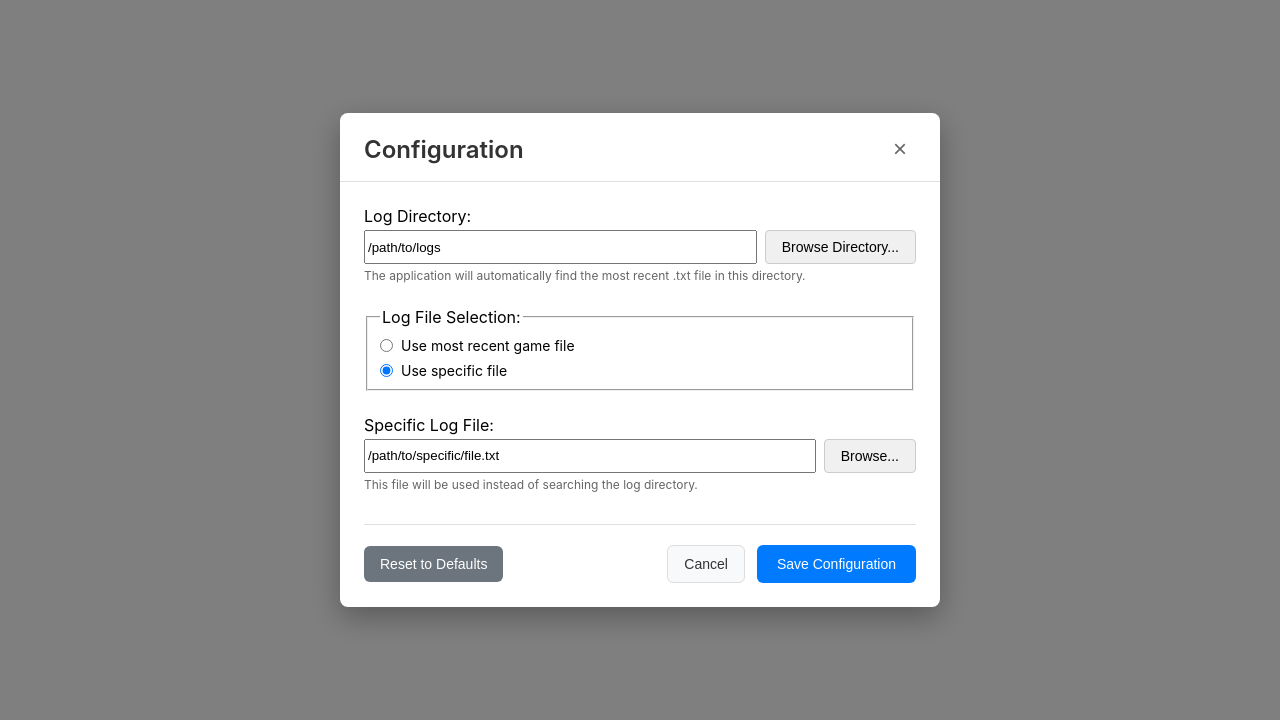
ConfigModal › Rendering › shows success message when success state is set
The width and height of the screenshot is (1280, 720).
Save configuration to trigger success message
What coordinates should you click on to do the following:
click the button "Save Configuration"
I would click on:
 (836, 564)
Its box is [757, 545, 916, 583].
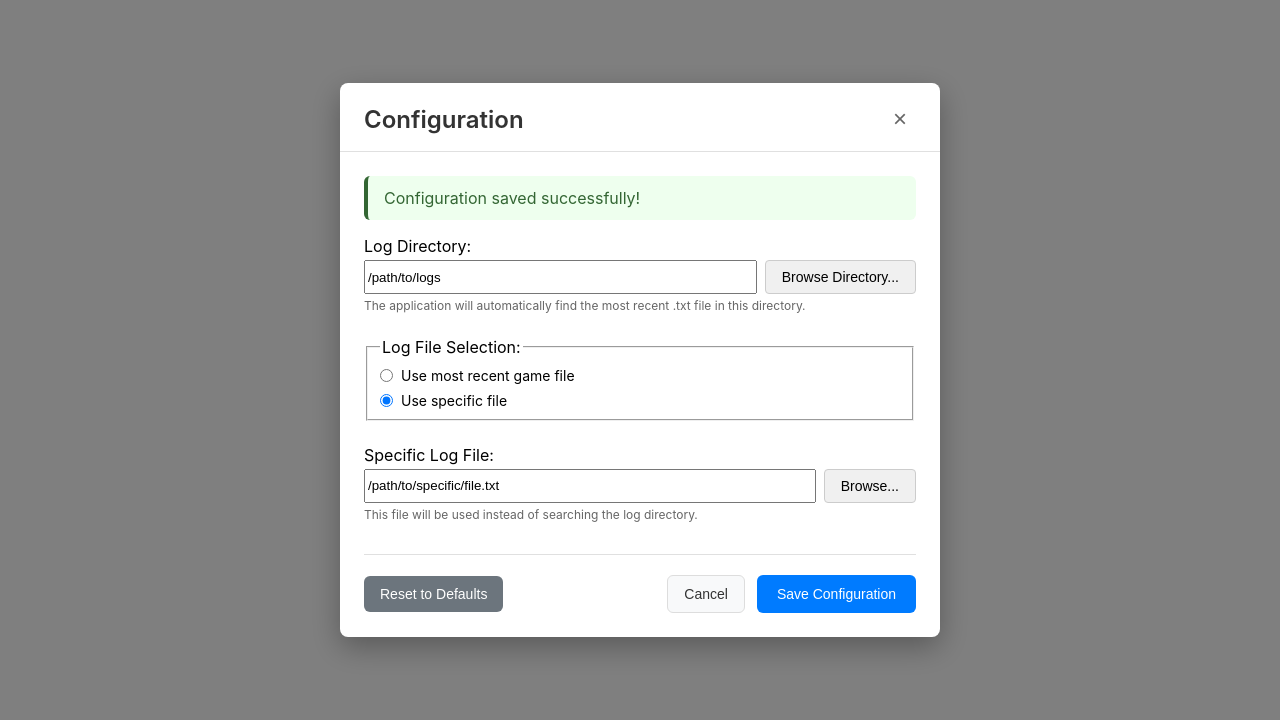
Expected: the text "Configuration saved successfully!" is shown, [364, 176, 916, 220]
